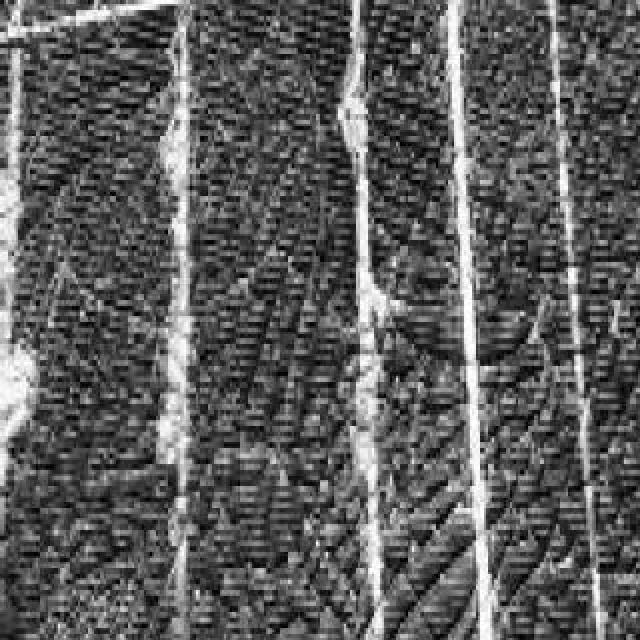Physical-damage: (350, 266, 579, 624), (9, 304, 45, 456)
